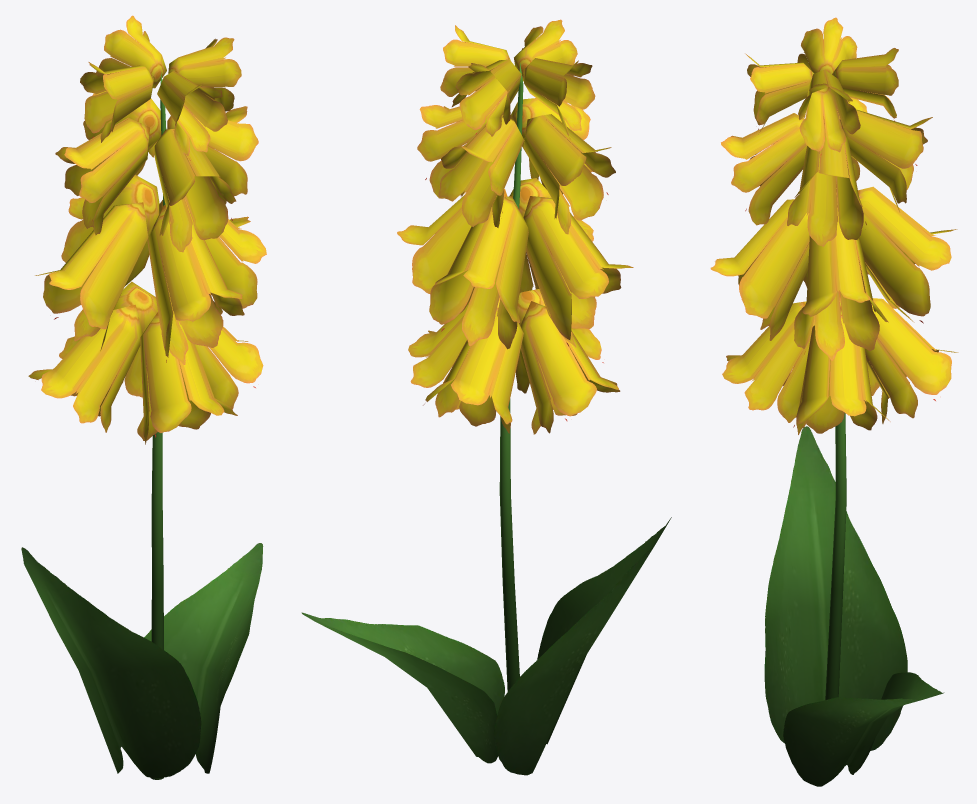
File: Flower_4_Single.glb
3 views of the same model, side by side, from view 1: azimuth 30°, elevation 25°; view 2: azimuth 150°, elevation 25°; view 3: azimuth 270°, elevation 25° (orthographic).
Parts seen in each view (by area): view 1: Flower_4_Single; view 2: Flower_4_Single; view 3: Flower_4_Single.
Boxes of the visible parts, left/top/right/bottom form: Flower_4_Single: left=21, top=15, right=266, bottom=779; Flower_4_Single: left=301, top=19, right=671, bottom=775; Flower_4_Single: left=710, top=17, right=958, bottom=786.
Size of the model in its own units: 1.07 by 2.42 by 0.7729.
Materials: 2 (2 with a texture image).
